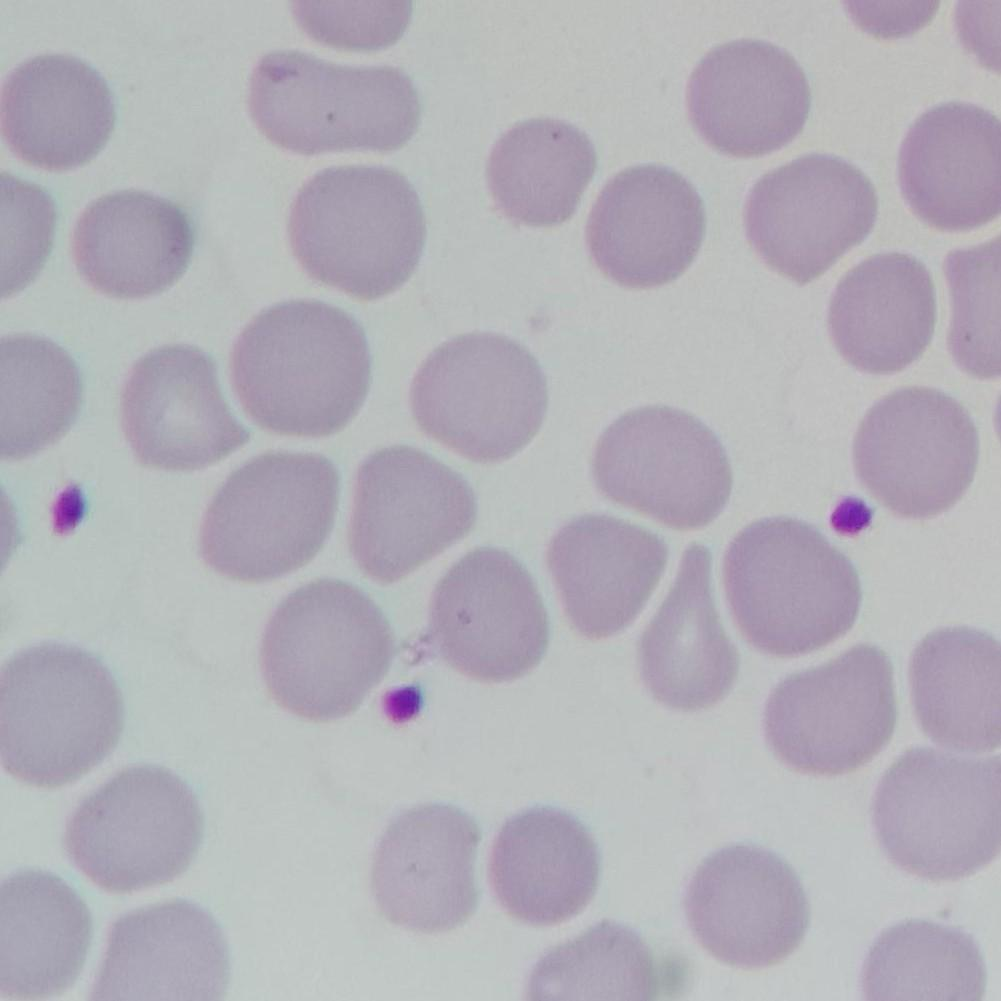Uninfected: (561, 230, 703, 369), (343, 723, 484, 860), (416, 200, 554, 339), (279, 259, 424, 389), (222, 764, 359, 895), (468, 590, 595, 731), (537, 411, 670, 545), (700, 291, 837, 420), (843, 248, 948, 416), (416, 348, 557, 472), (107, 66, 235, 199), (119, 873, 255, 998), (718, 743, 846, 874), (216, 2, 357, 119), (291, 638, 457, 737), (316, 428, 453, 547), (482, 852, 613, 976), (32, 684, 158, 808), (362, 546, 487, 670), (529, 122, 657, 243), (710, 585, 838, 704), (842, 686, 959, 809), (68, 369, 197, 480), (73, 488, 195, 600), (2, 89, 97, 230), (625, 829, 749, 935), (830, 2, 946, 112), (701, 74, 812, 188), (771, 901, 896, 1000), (773, 485, 881, 597), (247, 910, 371, 998)
